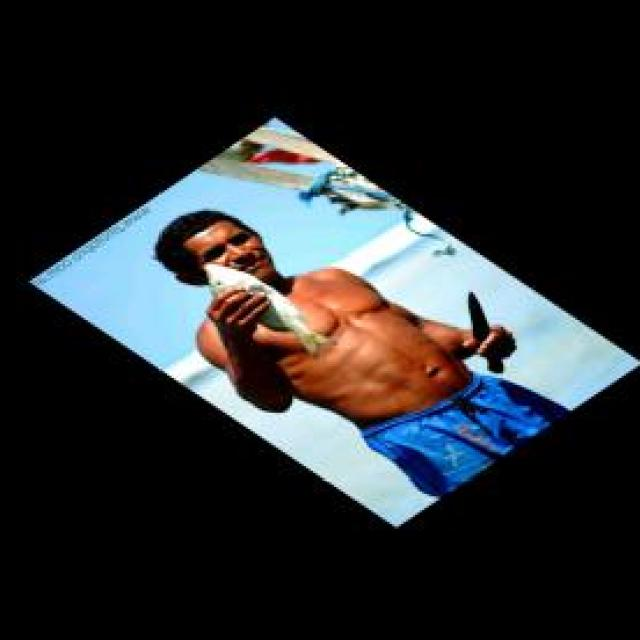knife: (464, 288, 508, 379)
